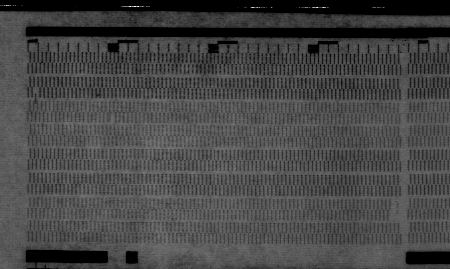Broken hole: (388, 199, 407, 222)
Oblique printing: (30, 87, 44, 102), (106, 111, 118, 124)
